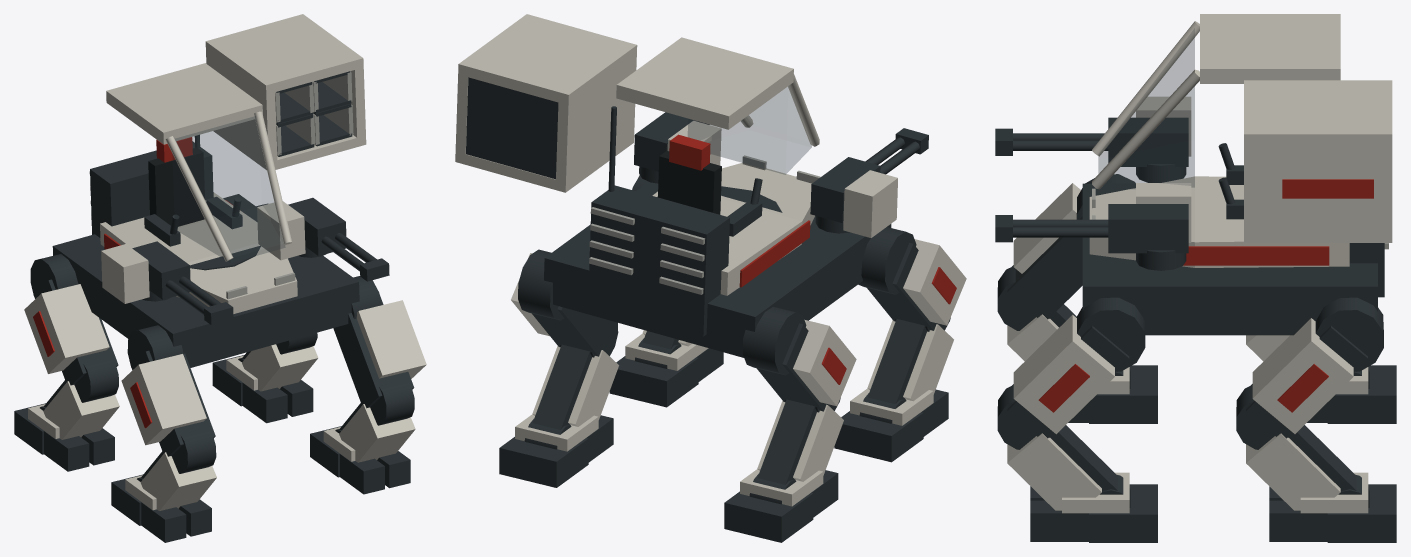
3 views of the same model, side by side, from view 1: azimuth 30°, elevation 25°; view 2: azimuth 150°, elevation 25°; view 3: azimuth 270°, elevation 25° (orthographic). The views are drawn at different scales.
Parts seen in each view (by area): view 1: mech-torso-painted, mech-silo-right-painted, mech-torso-glazing, mech-hip-1-painted, mech-hip-0-painted, mech-hip-3-painted, mech-seat-pilot-painted, mech-knee-1-painted, mech-knee-3-painted, mech-knee-0-painted, mech-ankle-2-painted, mech-ankle-3-painted (+7 smaller); view 2: mech-torso-painted, mech-silo-right-painted, mech-hip-0-painted, mech-hip-1-painted, mech-ankle-0-painted, mech-ankle-2-painted, mech-torso-glazing, mech-ankle-1-painted, mech-knee-2-painted, mech-ankle-3-painted, mech-knee-0-painted, mech-knee-1-painted (+6 smaller); view 3: mech-torso-painted, mech-silo-right-painted, mech-hip-3-painted, mech-hip-2-painted, mech-torso-glazing, mech-knee-2-painted, mech-knee-3-painted, mech-ankle-2-painted, mech-ankle-3-painted, mech-mg-pitch-right-painted, mech-hip-1-painted, mech-mg-pitch-left-painted (+9 smaller).
Boxes of the visible parts, x1=… form: mech-torso-painted: x1=52, y1=63, x2=359, y2=367; mech-silo-right-painted: x1=205, y1=14, x2=366, y2=169; mech-torso-glazing: x1=172, y1=116, x2=285, y2=262; mech-hip-1-painted: x1=121, y1=325, x2=215, y2=456; mech-hip-0-painted: x1=24, y1=254, x2=118, y2=385; mech-hip-3-painted: x1=333, y1=276, x2=426, y2=408; mech-seat-pilot-painted: x1=144, y1=137, x2=242, y2=246; mech-knee-1-painted: x1=140, y1=428, x2=216, y2=510; mech-knee-3-painted: x1=339, y1=379, x2=415, y2=462; mech-knee-0-painted: x1=43, y1=356, x2=119, y2=439; mech-ankle-2-painted: x1=212, y1=355, x2=313, y2=423; mech-ankle-3-painted: x1=310, y1=426, x2=410, y2=494; mech-torso-painted: x1=544, y1=37, x2=891, y2=357; mech-silo-right-painted: x1=455, y1=14, x2=637, y2=192; mech-hip-0-painted: x1=743, y1=307, x2=856, y2=411; mech-hip-1-painted: x1=858, y1=227, x2=966, y2=330; mech-ankle-0-painted: x1=724, y1=469, x2=838, y2=542; mech-ankle-2-painted: x1=499, y1=414, x2=613, y2=487; mech-torso-glazing: x1=688, y1=86, x2=811, y2=174; mech-ankle-1-painted: x1=834, y1=388, x2=948, y2=462; mech-knee-2-painted: x1=532, y1=322, x2=618, y2=429; mech-ankle-3-painted: x1=609, y1=333, x2=723, y2=407; mech-knee-0-painted: x1=757, y1=398, x2=843, y2=484; mech-knee-1-painted: x1=867, y1=317, x2=953, y2=404; mech-torso-painted: x1=1082, y1=14, x2=1388, y2=335; mech-silo-right-painted: x1=1244, y1=80, x2=1392, y2=242; mech-hip-3-painted: x1=1007, y1=297, x2=1145, y2=438; mech-hip-2-painted: x1=1246, y1=297, x2=1383, y2=438; mech-torso-glazing: x1=1098, y1=29, x2=1194, y2=189; mech-knee-2-painted: x1=1236, y1=385, x2=1356, y2=510; mech-knee-3-painted: x1=997, y1=385, x2=1117, y2=510; mech-ankle-2-painted: x1=1269, y1=472, x2=1396, y2=542; mech-ankle-3-painted: x1=1030, y1=472, x2=1157, y2=542; mech-mg-pitch-right-painted: x1=995, y1=204, x2=1188, y2=253; mech-hip-1-painted: x1=1007, y1=174, x2=1135, y2=319; mech-mg-pitch-left-painted: x1=995, y1=117, x2=1188, y2=166.
Bounding box in the file's own units: 15.26 × 17.13 × 14.45.
